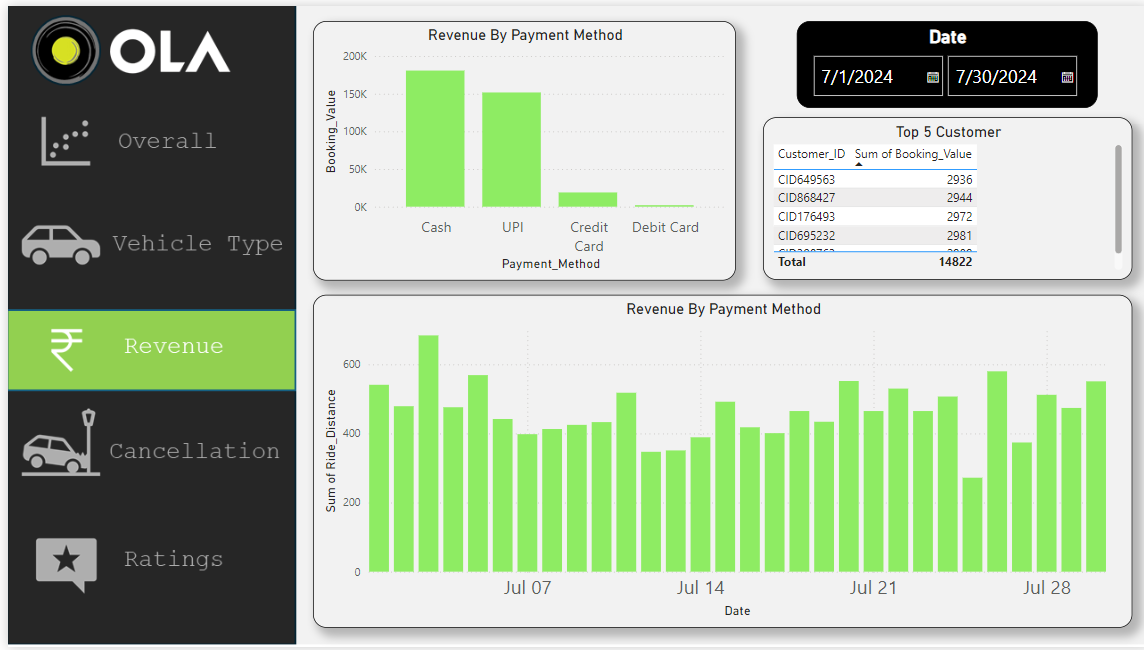

This screenshot's page, from the dashboard's own definition file:
{"tool":"powerbi","page":{"name":"Revenue","canvas":[1280,720],"ordinal":2},"visuals":[{"type":"actionButton","box":[0,211.4,324.3,132.9],"z":0},{"type":"actionButton","box":[0,431.4,324.3,135.7],"z":1000},{"type":"actionButton","box":[0,567.1,324.3,130],"z":2000},{"type":"actionButton","box":[1.4,101.4,324.3,110],"z":3000},{"type":"columnChart","title":"Revenue By Payment Method","fields":{"Y":["Sum(booking 1000 line.Booking_Value)"],"Category":["booking 1000 line.Payment_Method"]},"box":[341.7,16.5,474.8,290.9],"z":4000},{"type":"columnChart","title":"Revenue By Payment Method","fields":{"Y":["Sum(booking 1000 line.Ride_Distance)"],"Category":["booking 1000 line.Date"]},"box":[341.7,323.8,919.4,373.2],"z":5000},{"type":"slicer","title":"Date","fields":{"Values":["booking 1000 line.Date"]},"box":[885.1,16.5,337.6,97.4],"z":6000},{"type":"tableEx","title":"Top 5 Customer","fields":{"Values":["booking 1000 line.Customer_ID","Sum(booking 1000 line.Booking_Value)"]},"box":[846.7,124.9,414.4,182.5],"z":7000}]}

Visuals, with their boxes in screenshot pixels (x1, y1, x2, y2), scaled from the page's 1280x720 canvas onto the 1144x650 screenshot:
actionButton: (x1=0, y1=191, x2=290, y2=311)
actionButton: (x1=0, y1=389, x2=290, y2=512)
actionButton: (x1=0, y1=512, x2=290, y2=629)
actionButton: (x1=1, y1=92, x2=291, y2=191)
"Revenue By Payment Method" columnChart: (x1=305, y1=15, x2=730, y2=278)
"Revenue By Payment Method" columnChart: (x1=305, y1=292, x2=1127, y2=629)
"Date" slicer: (x1=791, y1=15, x2=1093, y2=103)
"Top 5 Customer" tableEx: (x1=757, y1=113, x2=1127, y2=278)
